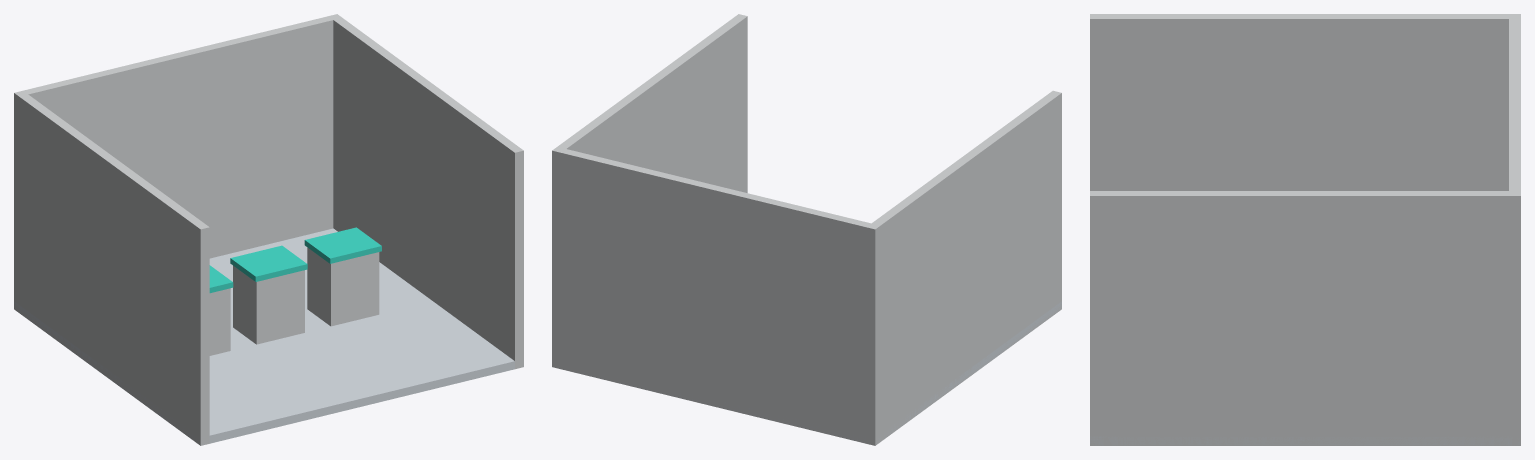
3 renders of one model, left to right at view 1: azimuth 30°, elevation 25°; view 2: azimuth 150°, elevation 25°; view 3: azimuth 270°, elevation 25°, orthographic. The views are drawn at different scales.
Parts seen in each view (by area): view 1: Exhibition Booth Concept; view 2: Exhibition Booth Concept; view 3: Exhibition Booth Concept.
Part boxes in pixels (x1=…): Exhibition Booth Concept: x1=14, y1=14, x2=523, y2=445; Exhibition Booth Concept: x1=552, y1=14, x2=1061, y2=445; Exhibition Booth Concept: x1=1090, y1=14, x2=1520, y2=445.
Bounding box in the file's own units: 5 × 3.2 × 5.
